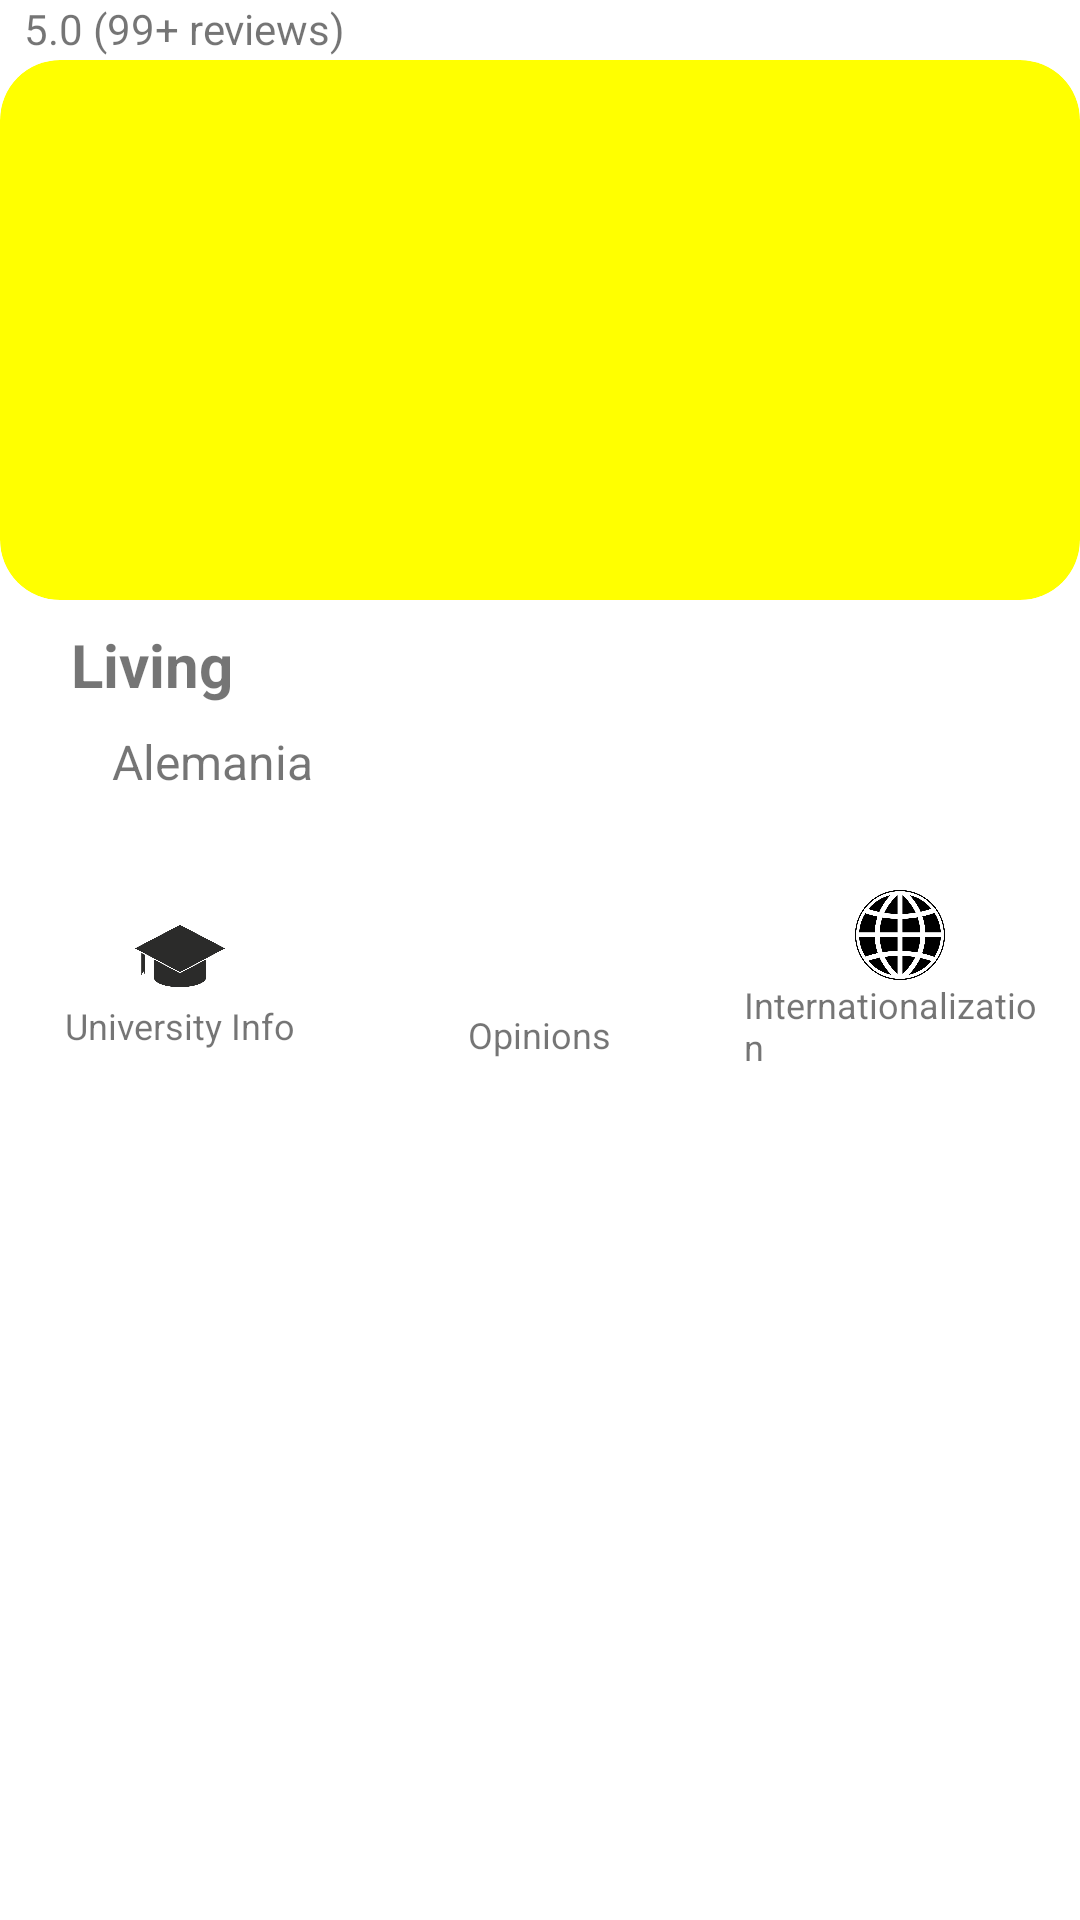

Screen size 1080w x 1920h. Icon name, then its center in pixels as (x,y):
world: (900,935)
